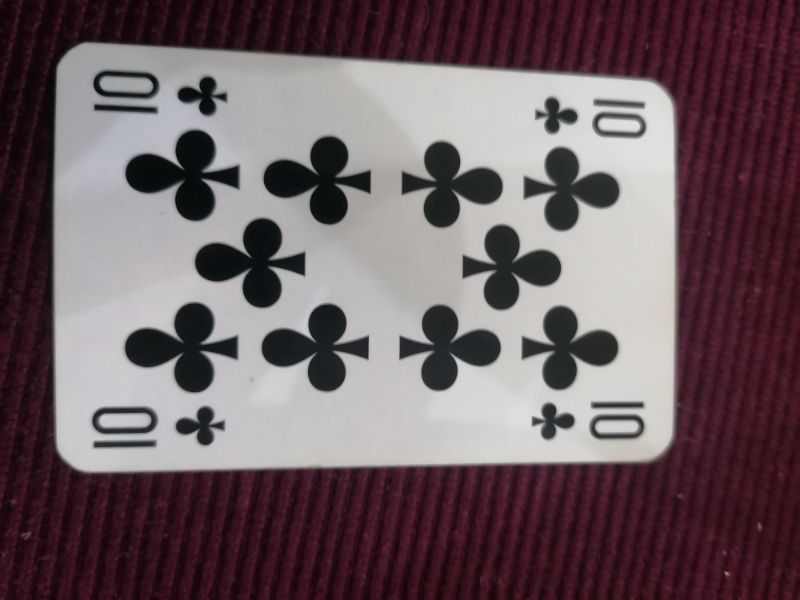Tc: (87, 399, 232, 451), (90, 67, 235, 118), (530, 394, 649, 443), (531, 93, 651, 140)
